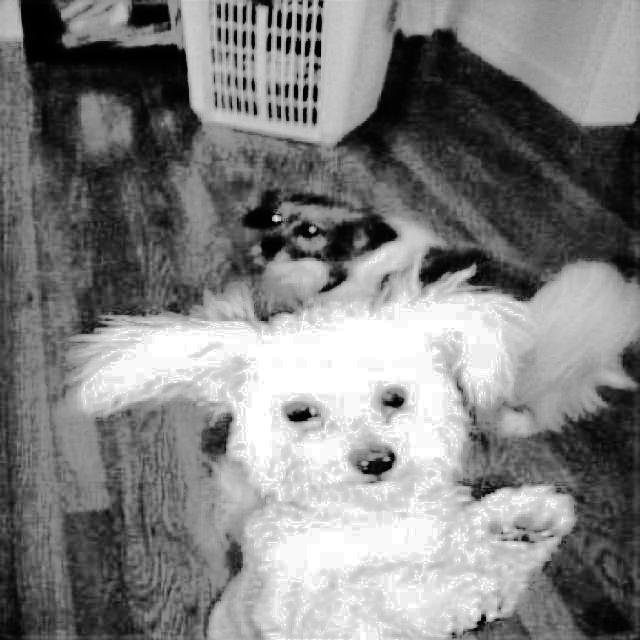Dog: (63, 283, 586, 640), (237, 184, 552, 313)
